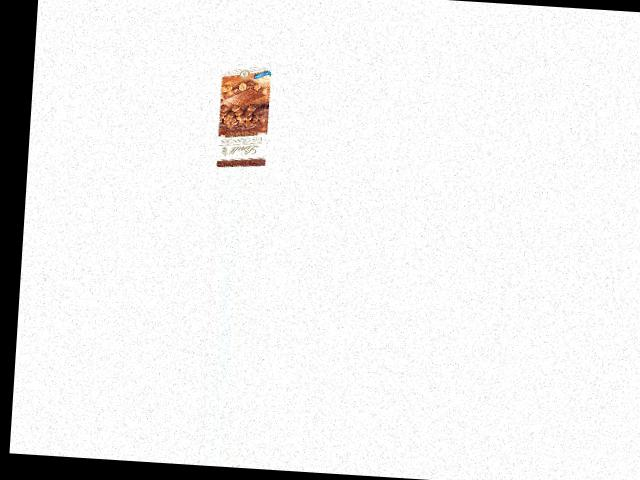chocolate: (208, 65, 274, 166)
